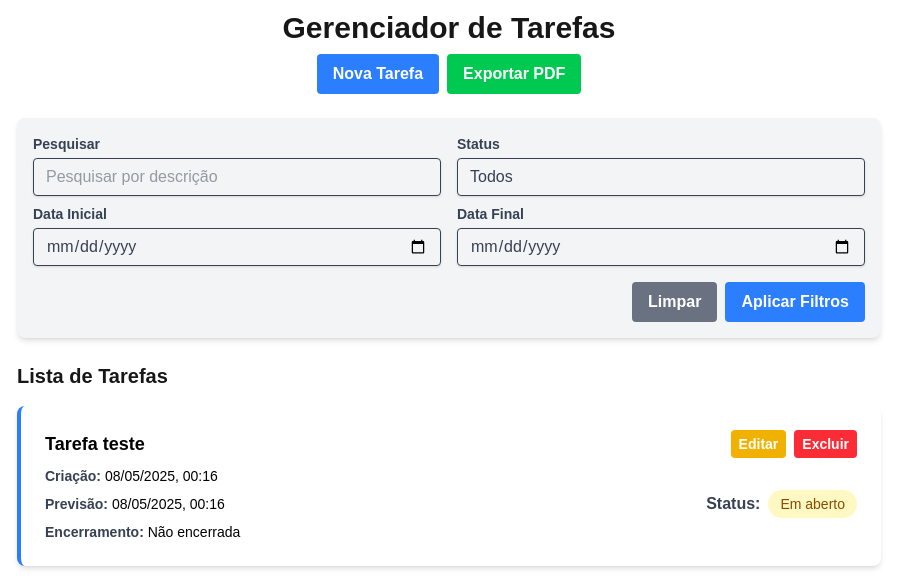
Tarefas › should delete task and show confirmation
Click the button "Excluir" at (826, 444), box left=794, top=430, right=857, bottom=458
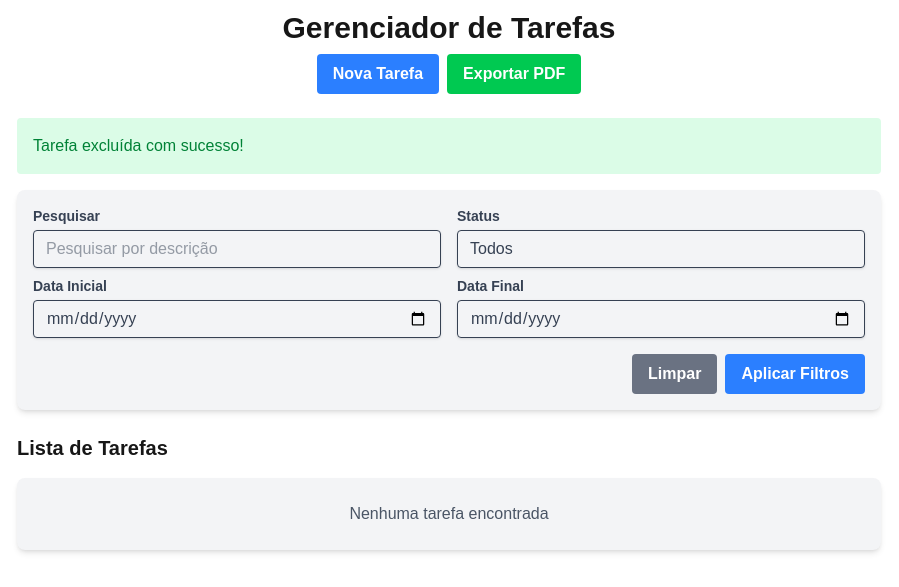
Result: the text "Tarefa excluída com sucesso!" is shown at left=17, top=118, right=881, bottom=174
